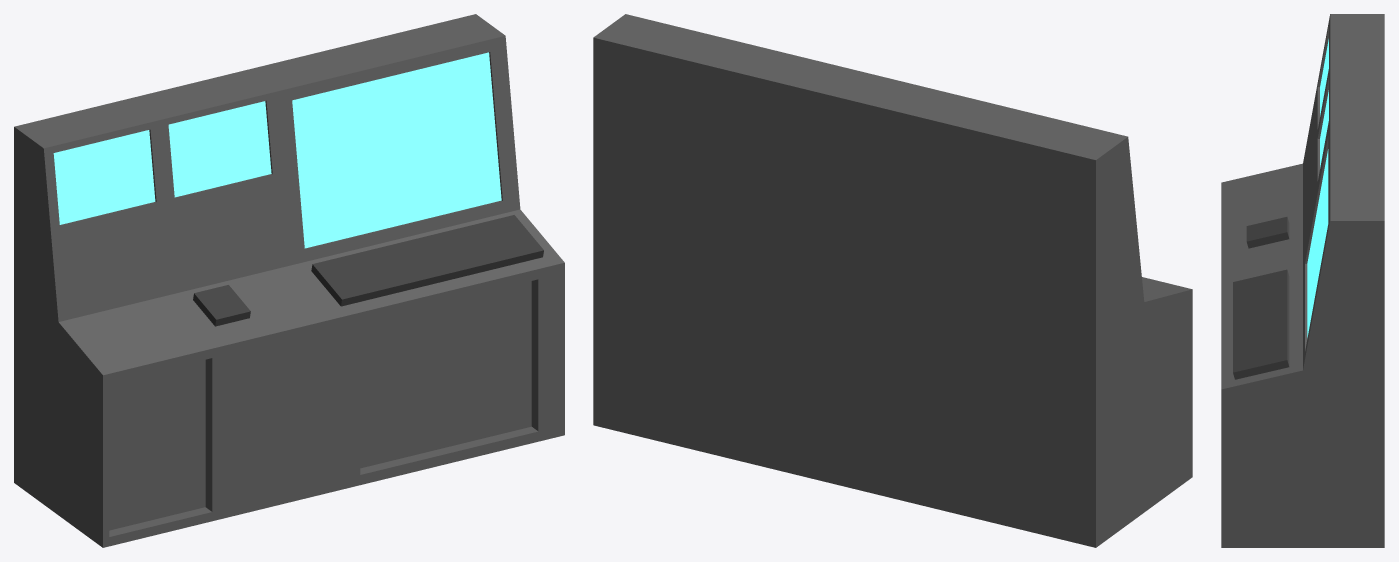
The model's file is RUS.glb.
The picture shows the model from 3 angles, left to right: view 1: azimuth 30°, elevation 25°; view 2: azimuth 150°, elevation 25°; view 3: azimuth 270°, elevation 25°; orthographic projection. The views are drawn at different scales.
Visible parts, largest first — view 1: Cube; view 2: Cube; view 3: Cube.
Boxes of the visible parts, x1,y1,x2,y2 form: Cube: (14, 14, 564, 547); Cube: (593, 14, 1192, 547); Cube: (1221, 14, 1384, 547).
Bounding box in the file's own units: 3 × 2.21 × 1.
